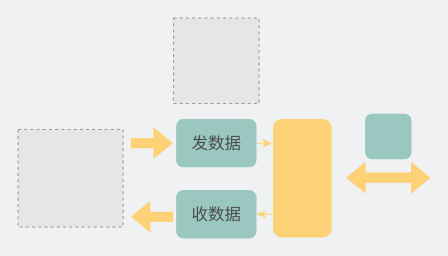
The diagram is 448 pixels wide and 256 high, and some of its shapes have lost their labels. Grey dashed boxes stand in for pictures. The shapes that lost their labels are listed below. From the top down, each one's centre as x and y in pixels, then its label:
pixel 388 136: data
pixel 301 177: 创建 会话
